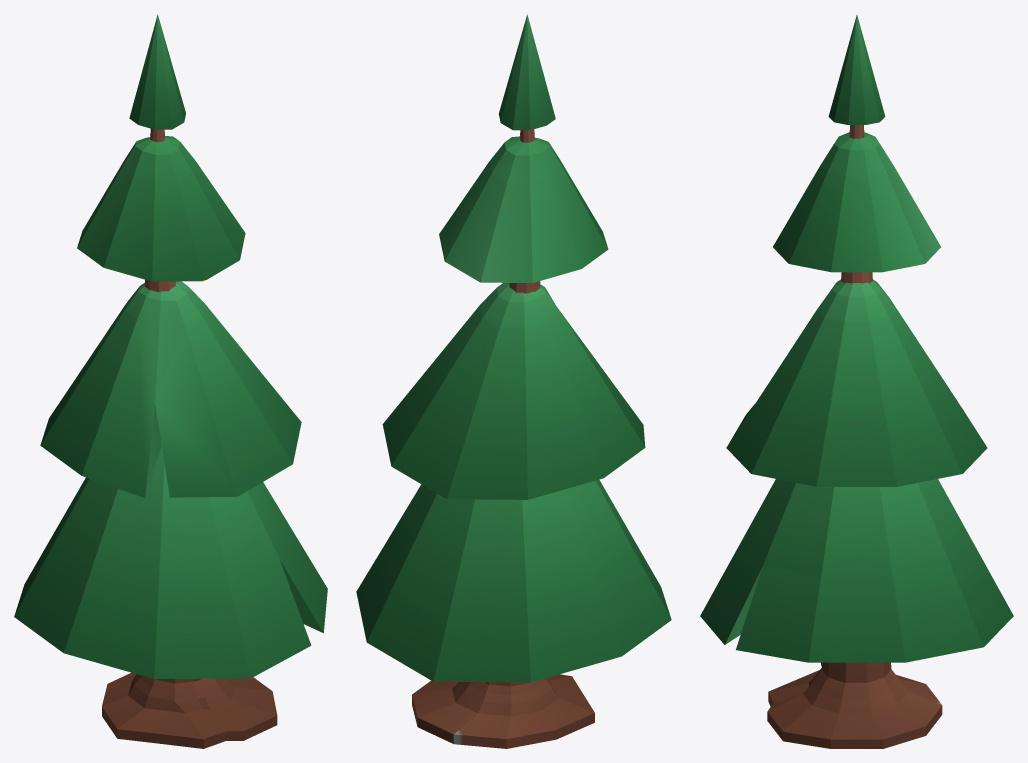
File: arbol2.fbx
The picture shows the model from 3 angles, left to right: view 1: azimuth 30°, elevation 25°; view 2: azimuth 150°, elevation 25°; view 3: azimuth 270°, elevation 25°; orthographic projection. The views are drawn at different scales.
Visible parts, largest first — view 1: Circle.003; view 2: Circle.003; view 3: Circle.003.
Part boxes in pixels (box(x1,y1,x2,y2)): Circle.003: box(14, 14, 327, 748); Circle.003: box(356, 14, 671, 748); Circle.003: box(700, 15, 1013, 748).
Bounding box in the file's own units: 414 × 1053 × 435.
